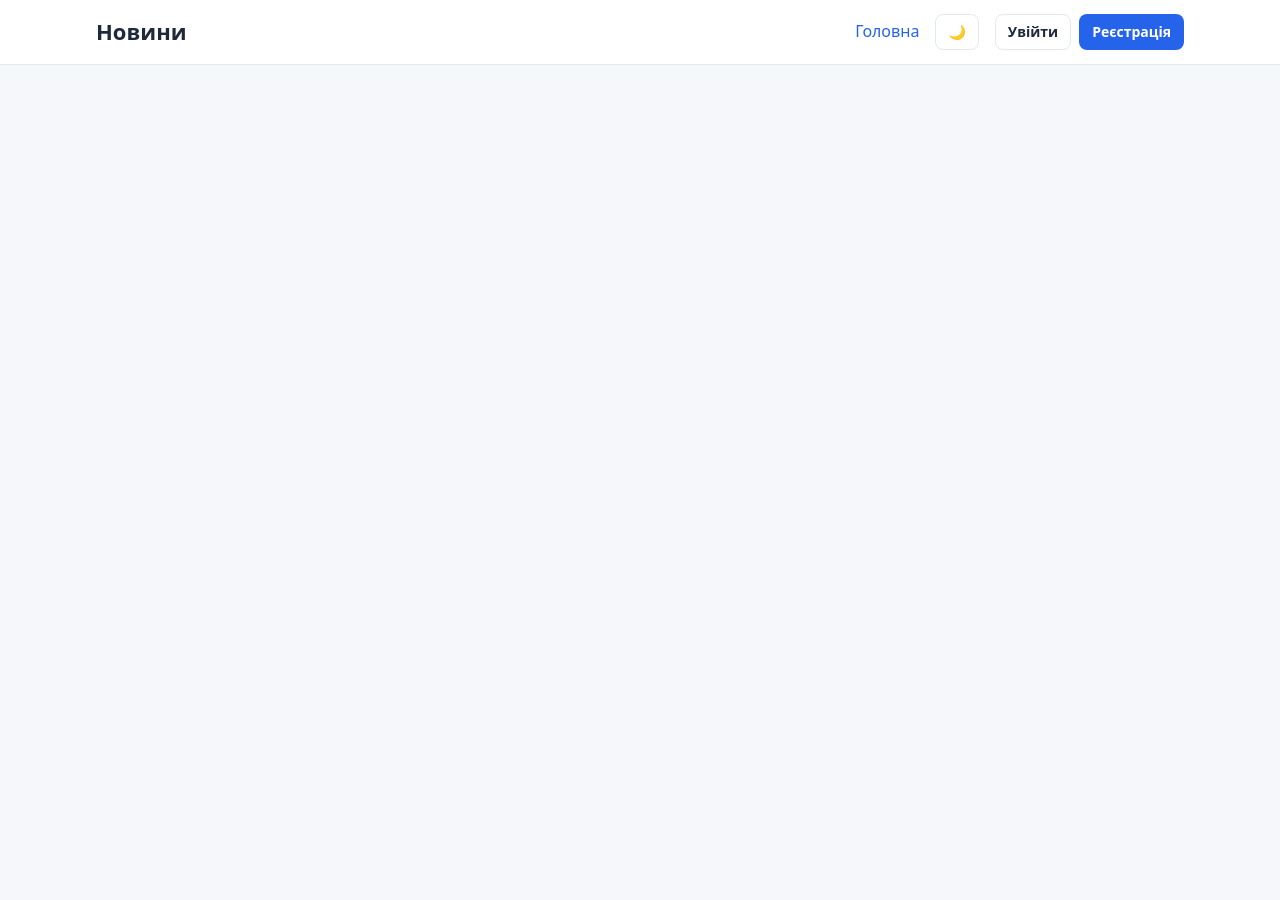
Scenario: Header › кнопка теми перемикає світлу і темну тему
What coordinates should you click on to do the following:
click the button named "Увімкнути темну тему"
I would click on:
 (957, 32)
Its box is [935,14,979,50].
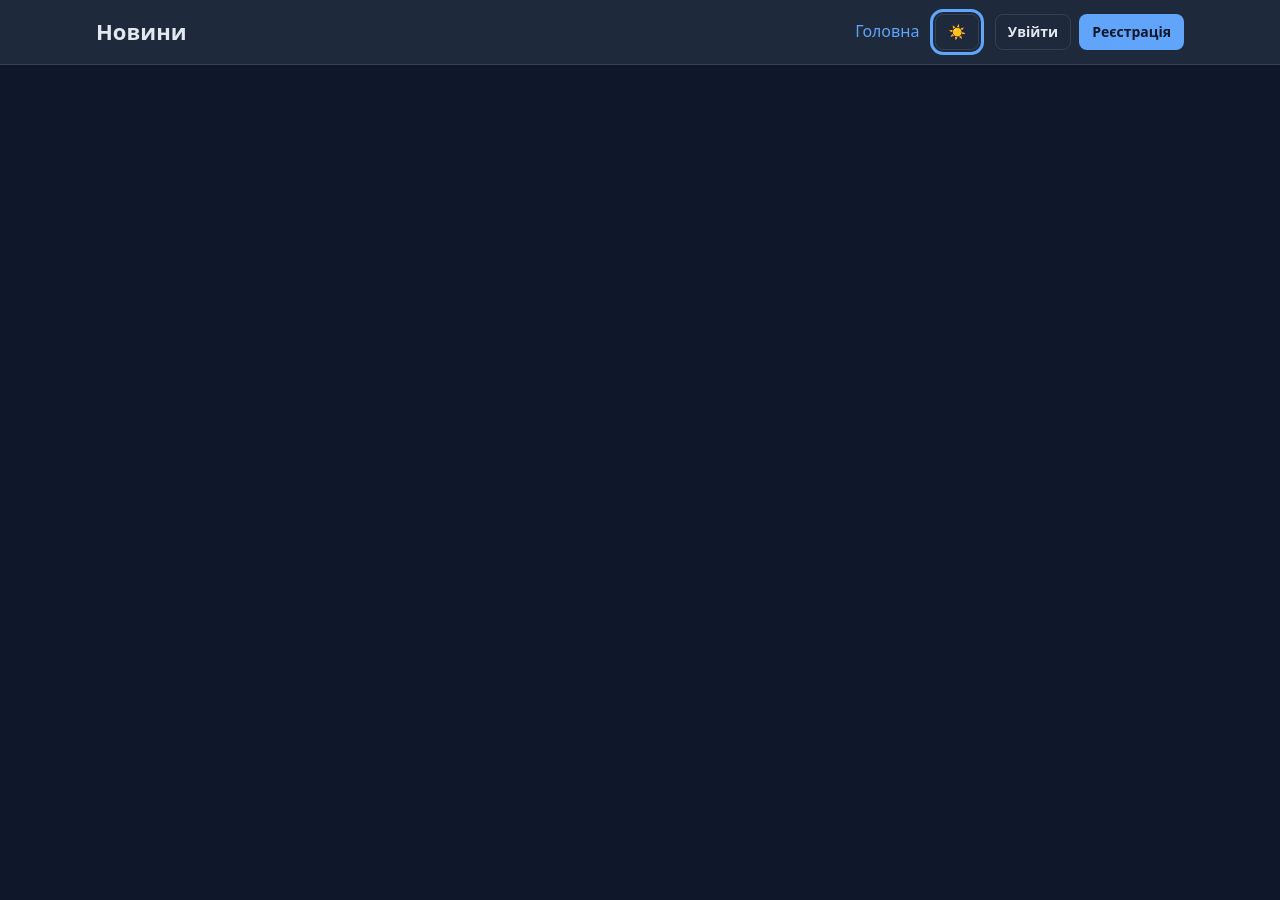
Expected: the button named "Увімкнути світлу тему" is shown, [935,14,979,50]
